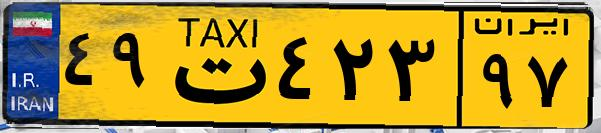2: (330, 28, 385, 110)
3: (385, 28, 445, 110)
4: (270, 28, 330, 110), (57, 26, 110, 100)
7: (525, 38, 570, 115)
9: (475, 38, 525, 113), (110, 28, 158, 98)
ت: (158, 12, 270, 120)
